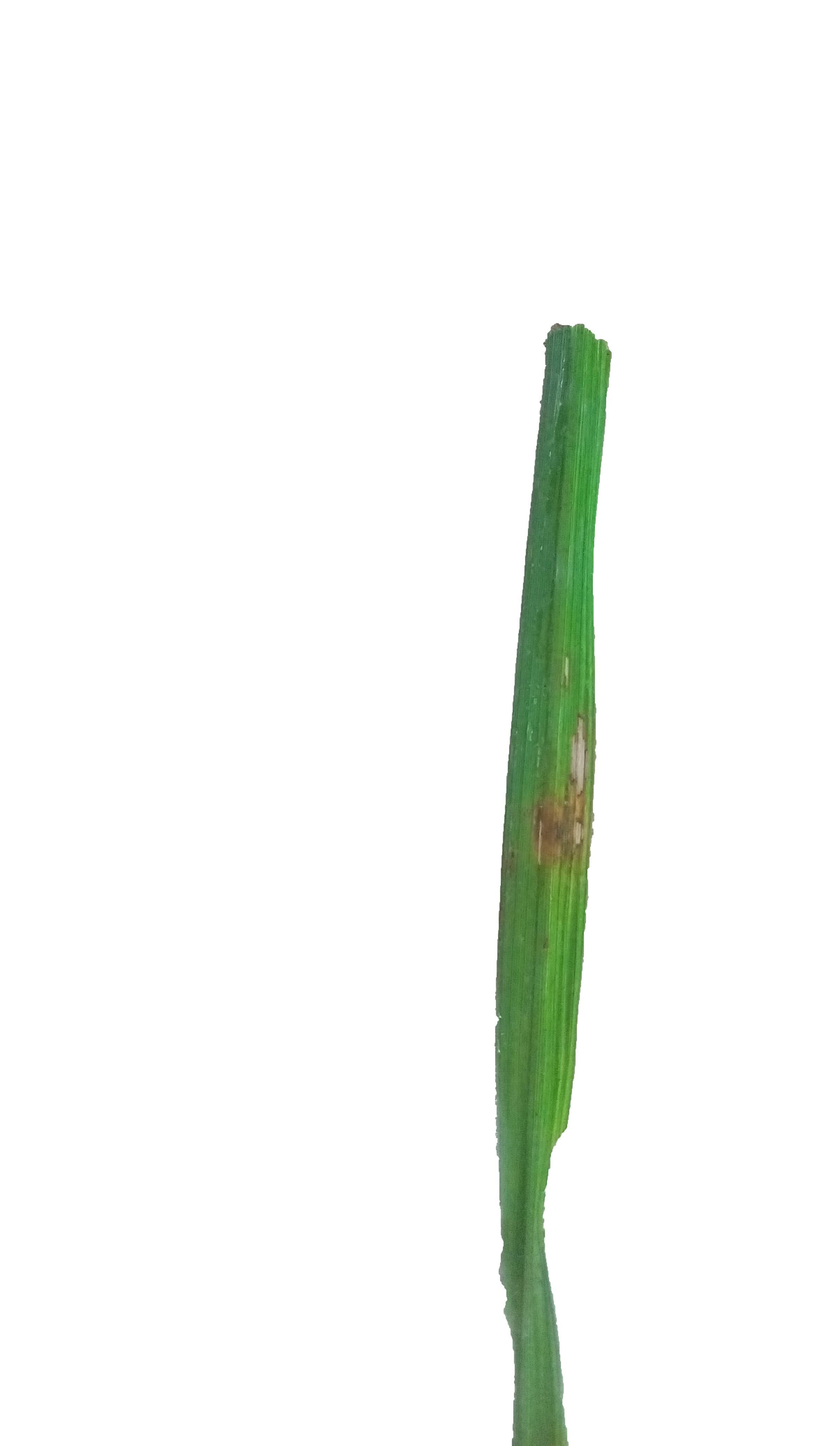Rice blast: (529, 708, 589, 876)
